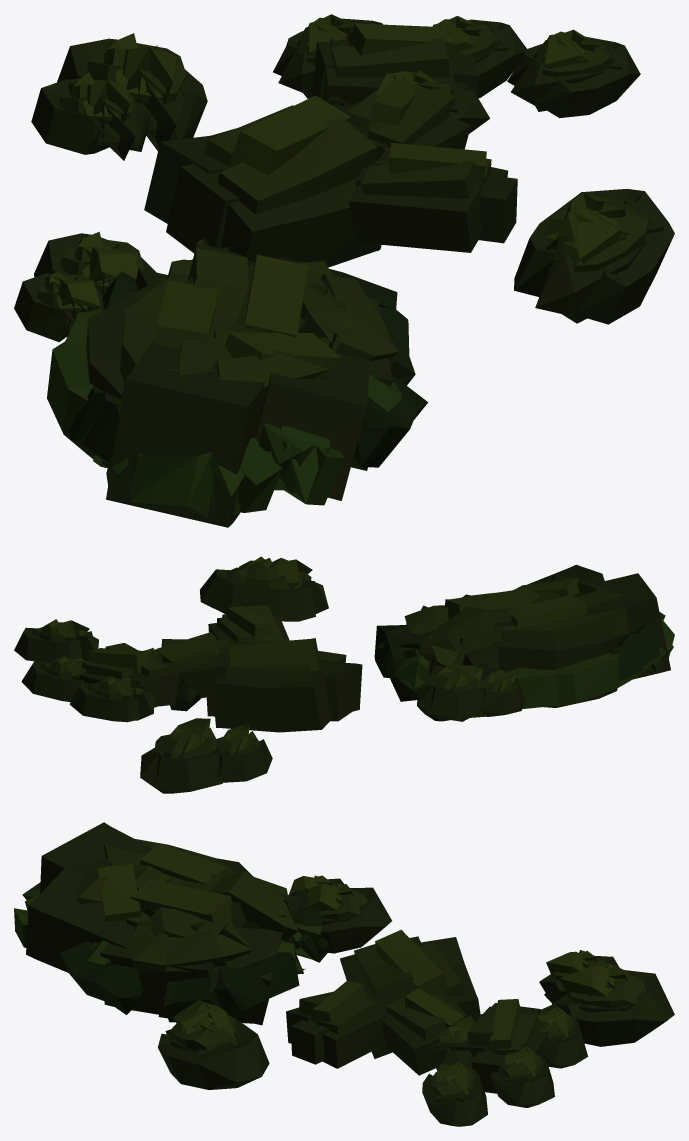
The model's file is SubRocks2.fbx.
3 renders of one model, top to bottom at view 1: azimuth 30°, elevation 25°; view 2: azimuth 150°, elevation 25°; view 3: azimuth 270°, elevation 25°, orthographic. The views are drawn at different scales.
Visible parts, largest first — view 1: SubRocks2; view 2: SubRocks2; view 3: SubRocks2.
Boxes of the visible parts, x1,y1,x2,y2 form: SubRocks2: (14, 14, 674, 527); SubRocks2: (14, 556, 674, 793); SubRocks2: (14, 822, 674, 1126).
Size of the model in its own units: 8.41 by 1.76 by 8.97.
